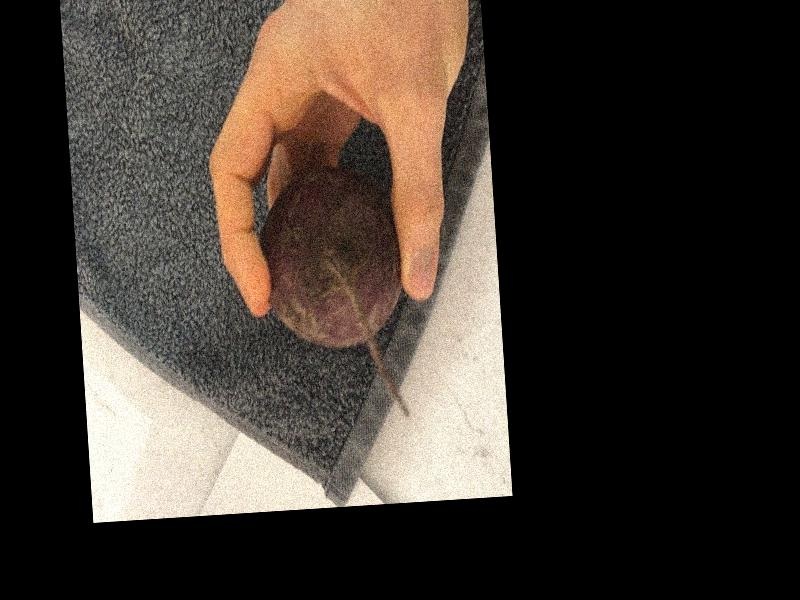Beet: (256, 163, 411, 426)
